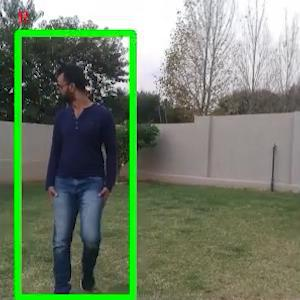follow: (33, 31, 128, 293)
